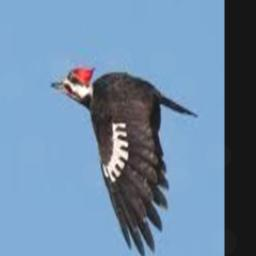Woodpecker: (52, 66, 197, 256)
